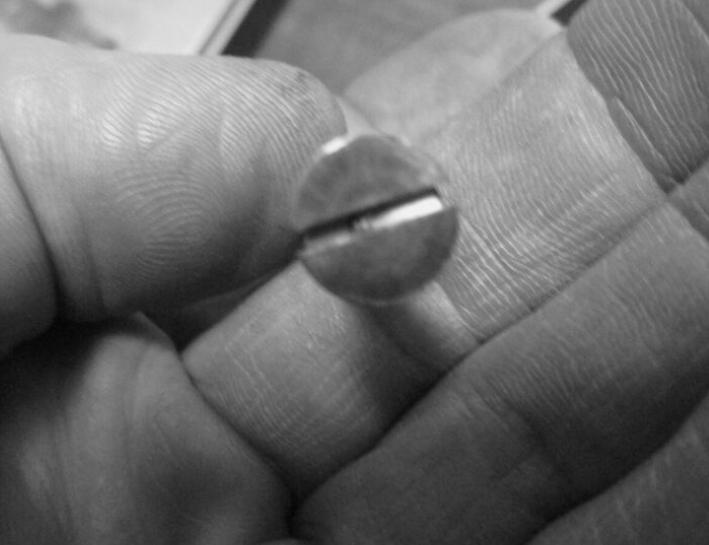screw: (296, 136, 460, 307)
